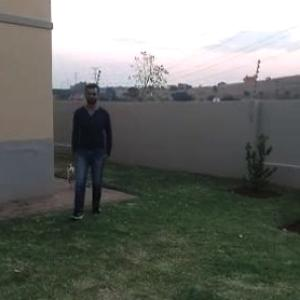follow: (64, 77, 109, 224)
